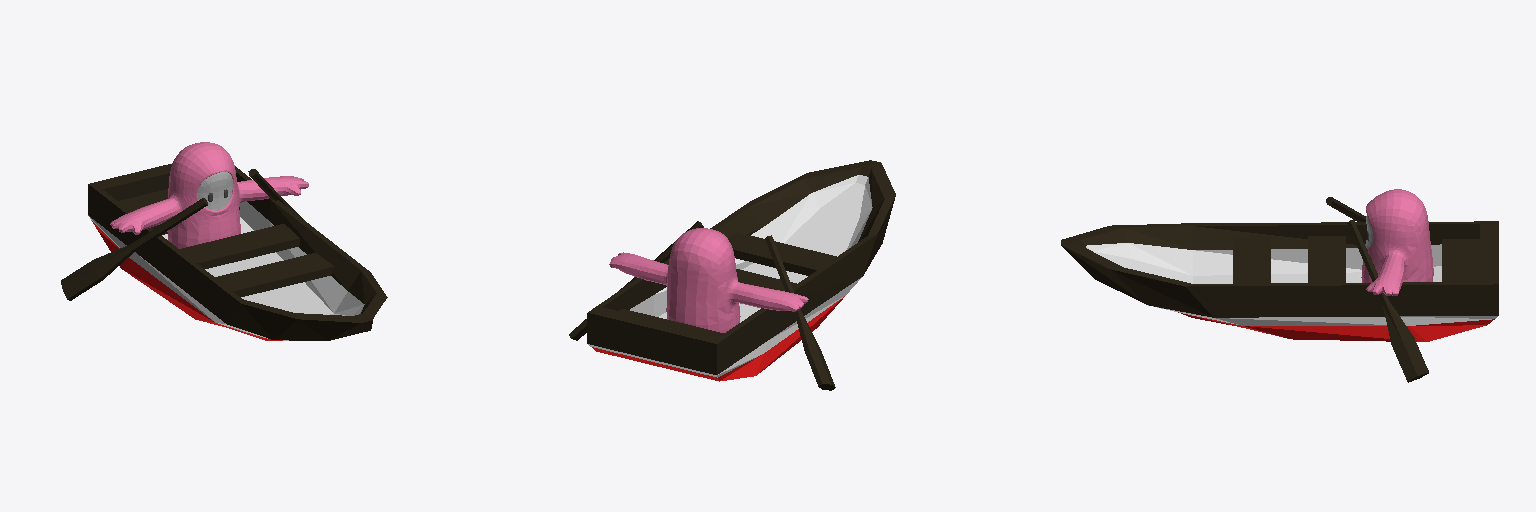
3 views of the same model, side by side, from view 1: azimuth 30°, elevation 25°; view 2: azimuth 150°, elevation 25°; view 3: azimuth 270°, elevation 25° (orthographic).
Visible parts, largest first — view 1: 立方体, Body, 立方体.2, 立方体.1, 圆柱.1, 立方体.3; view 2: 立方体, Body, 立方体.1, 圆柱.1, 立方体.2; view 3: 立方体, Body, 圆柱, 立方体.2, 立方体.1, 立方体.3.
Part boxes in pixels (bbox=[...]): 立方体: bbox=[88, 164, 387, 340]; Body: bbox=[110, 142, 308, 248]; 立方体.2: bbox=[179, 224, 299, 268]; 立方体.1: bbox=[215, 253, 334, 296]; 圆柱.1: bbox=[61, 198, 207, 300]; 立方体.3: bbox=[118, 189, 239, 234]; 立方体: bbox=[587, 160, 895, 381]; Body: bbox=[609, 228, 808, 332]; 立方体.1: bbox=[728, 232, 836, 275]; 圆柱.1: bbox=[765, 235, 835, 390]; 立方体.2: bbox=[736, 269, 796, 290]; 立方体: bbox=[1061, 221, 1498, 341]; Body: bbox=[1361, 189, 1433, 295]; 圆柱: bbox=[1347, 220, 1428, 382]; 立方体.2: bbox=[1308, 236, 1345, 282]; 立方体.1: bbox=[1233, 236, 1270, 283]; 立方体.3: bbox=[1442, 239, 1479, 281].
Size of the model in its own units: 3.97 by 1.96 by 5.87.
Materials: 4 (1 with a texture image).